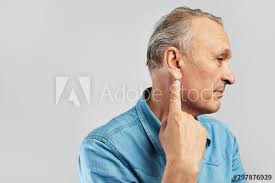white_male: (172, 22, 242, 114)
